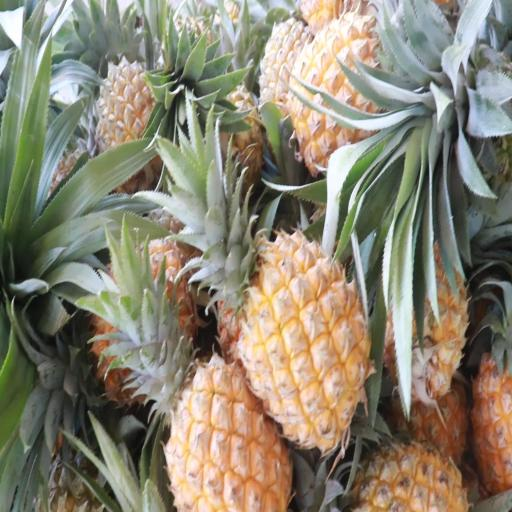Pineapple - v8 v1: (224, 216, 376, 432), (287, 13, 428, 172), (174, 349, 298, 512)
